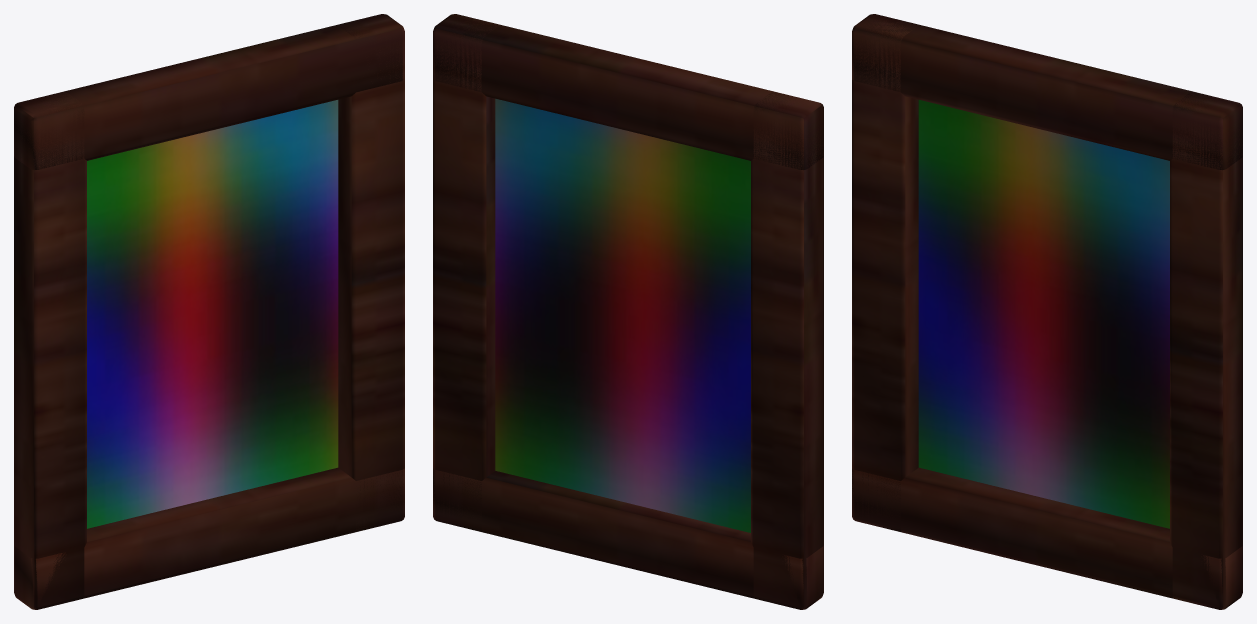
Rendered from gallery_photo_3.glb.
3 views of the same model, side by side, from view 1: azimuth 30°, elevation 25°; view 2: azimuth 150°, elevation 25°; view 3: azimuth 330°, elevation 25° (orthographic).
Visible parts, largest first — view 1: Prop dark wood, Photo; view 2: Prop dark wood, Photo; view 3: Prop dark wood, Photo.
Boxes of the visible parts, x1,y1,x2,y2 form: Prop dark wood: [14, 14, 404, 609]; Photo: [87, 100, 338, 528]; Prop dark wood: [433, 14, 823, 609]; Photo: [495, 98, 750, 532]; Prop dark wood: [852, 14, 1242, 609]; Photo: [918, 100, 1169, 528].
Size of the model in its own units: 0.3 by 0.38 by 0.03.
Materials: 2 (2 with a texture image).
